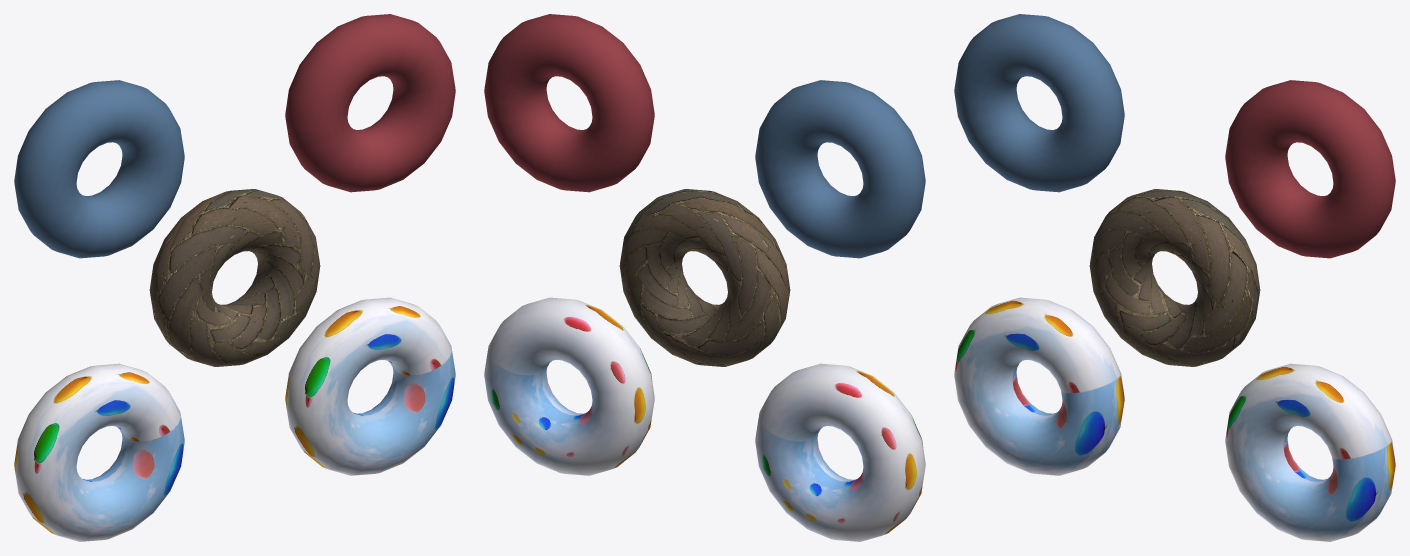
File: BallNormal02.fbx
3 renders of one model, left to right at view 1: azimuth 30°, elevation 25°; view 2: azimuth 150°, elevation 25°; view 3: azimuth 330°, elevation 25°, orthographic.
Parts seen in each view (by area): view 1: pTorus6; view 2: pTorus6; view 3: pTorus6.
Part boxes in pixels (x1=…): pTorus6: x1=14, y1=14, x2=455, y2=541; pTorus6: x1=484, y1=14, x2=925, y2=541; pTorus6: x1=954, y1=14, x2=1395, y2=541.
Bounding box in the file's own units: 8 × 8 × 1.
Materials: 5 (3 with a texture image).
